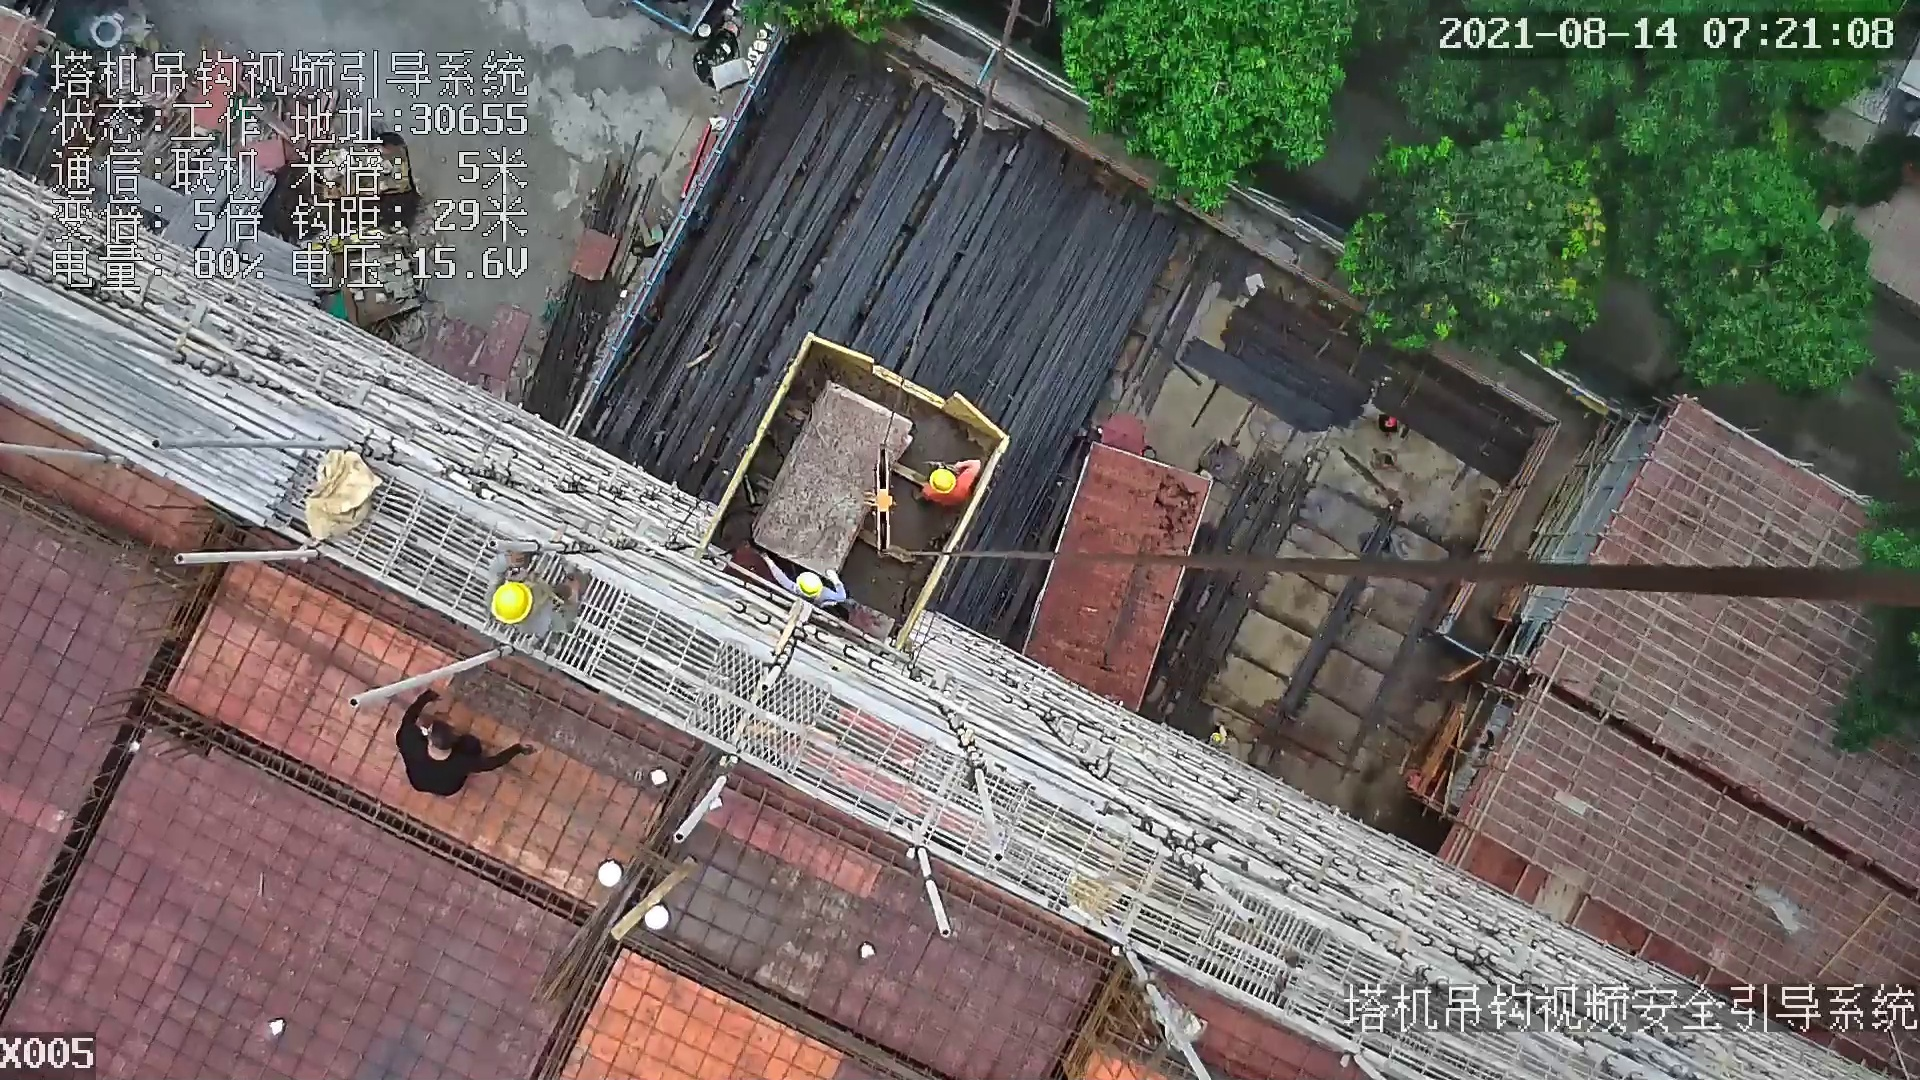helmet: (483, 582, 538, 628), (927, 466, 958, 496), (796, 570, 826, 599)
hook: (858, 440, 900, 555)
person: (394, 691, 538, 801), (763, 551, 850, 610), (918, 455, 987, 508)
